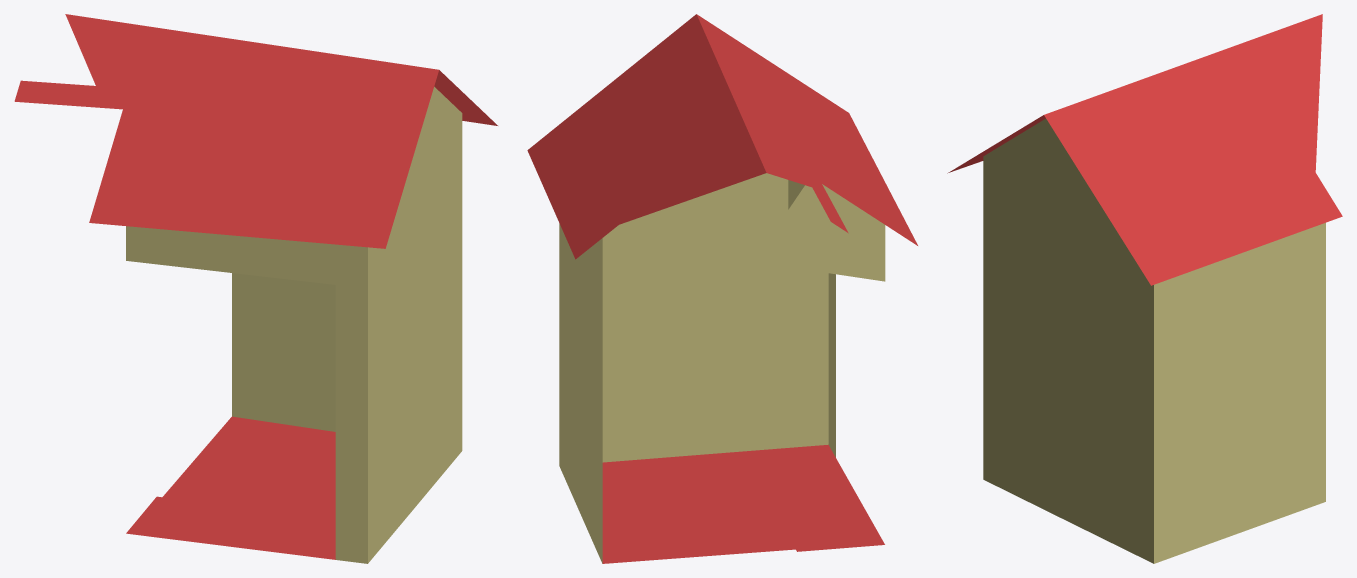
3 views of the same model, side by side, from view 1: azimuth 30°, elevation 25°; view 2: azimuth 150°, elevation 25°; view 3: azimuth 270°, elevation 25° (orthographic). The views are drawn at different scales.
Size of the model in its own units: 12.46 by 11.29 by 12.96.
